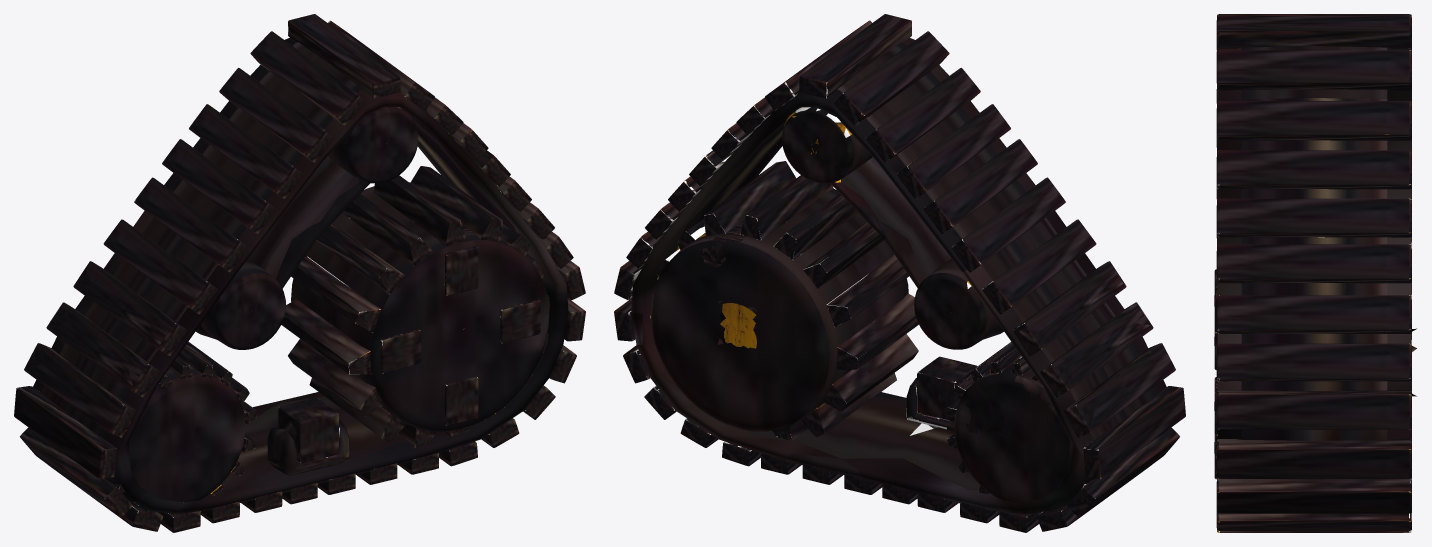
File: Pie-Izquierdo.fbx
The picture shows the model from 3 angles, left to right: view 1: azimuth 30°, elevation 25°; view 2: azimuth 150°, elevation 25°; view 3: azimuth 270°, elevation 25°; orthographic projection. The views are drawn at different scales.
Visible parts, largest first — view 1: Wall-E.002; view 2: Wall-E.002; view 3: Wall-E.002.
Part boxes in pixels (left/top/right/bottom): Wall-E.002: left=14, top=14, right=585, bottom=532; Wall-E.002: left=614, top=14, right=1185, bottom=532; Wall-E.002: left=1214, top=14, right=1416, bottom=532.
Size of the model in its own units: 1221 by 966 by 390.
